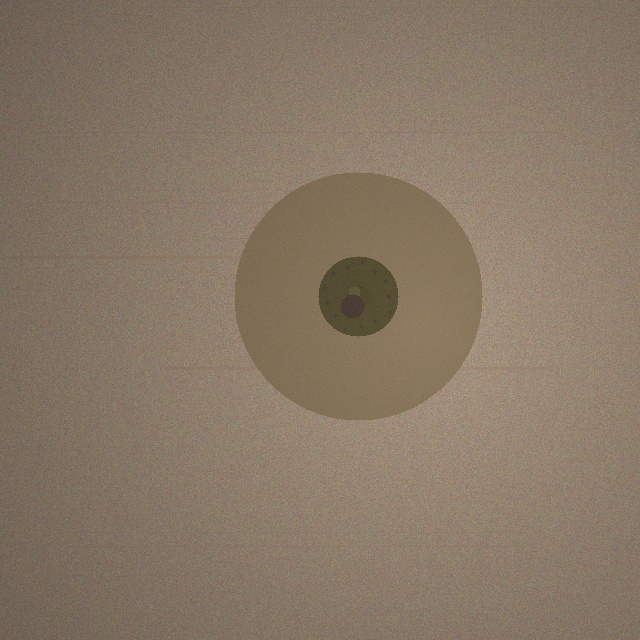cold_weld: (234, 172, 482, 420)
